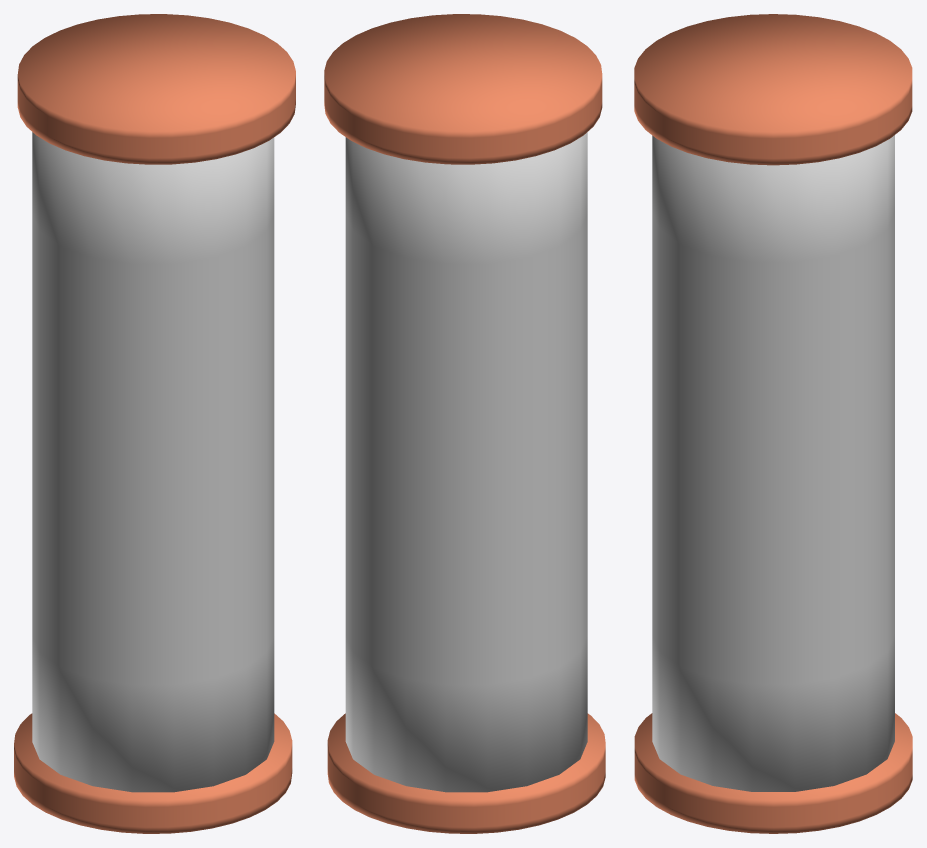
3 renders of one model, left to right at view 1: azimuth 30°, elevation 25°; view 2: azimuth 150°, elevation 25°; view 3: azimuth 270°, elevation 25°, orthographic.
Parts seen in each view (by area): view 1: Object_2, Object_3; view 2: Object_2, Object_3; view 3: Object_2, Object_3.
Part boxes in pixels (left/top/right/bottom): Object_2: left=32, top=132, right=274, bottom=792; Object_3: left=14, top=14, right=295, bottom=833; Object_2: left=345, top=132, right=587, bottom=792; Object_3: left=324, top=14, right=605, bottom=833; Object_2: left=652, top=135, right=894, bottom=791; Object_3: left=634, top=14, right=912, bottom=833.
Bounding box in the file's own units: 13.71 × 37.59 × 13.48.
